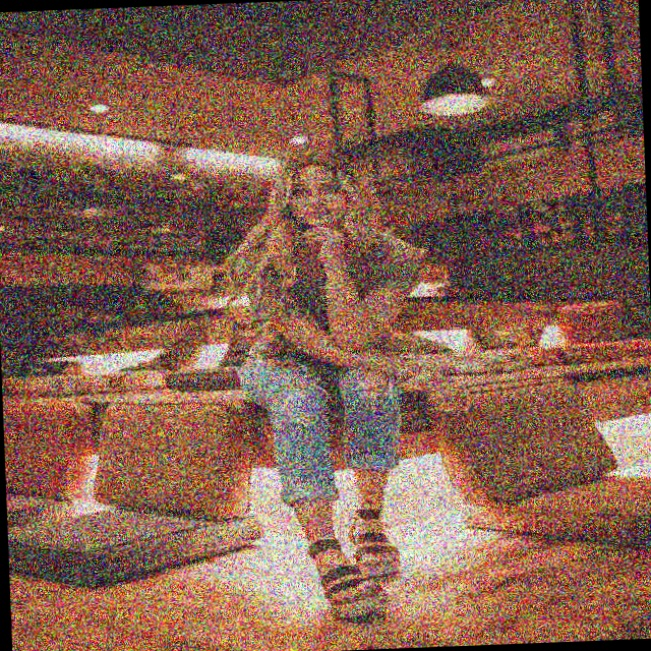ripped_pants: (234, 337, 412, 507)
